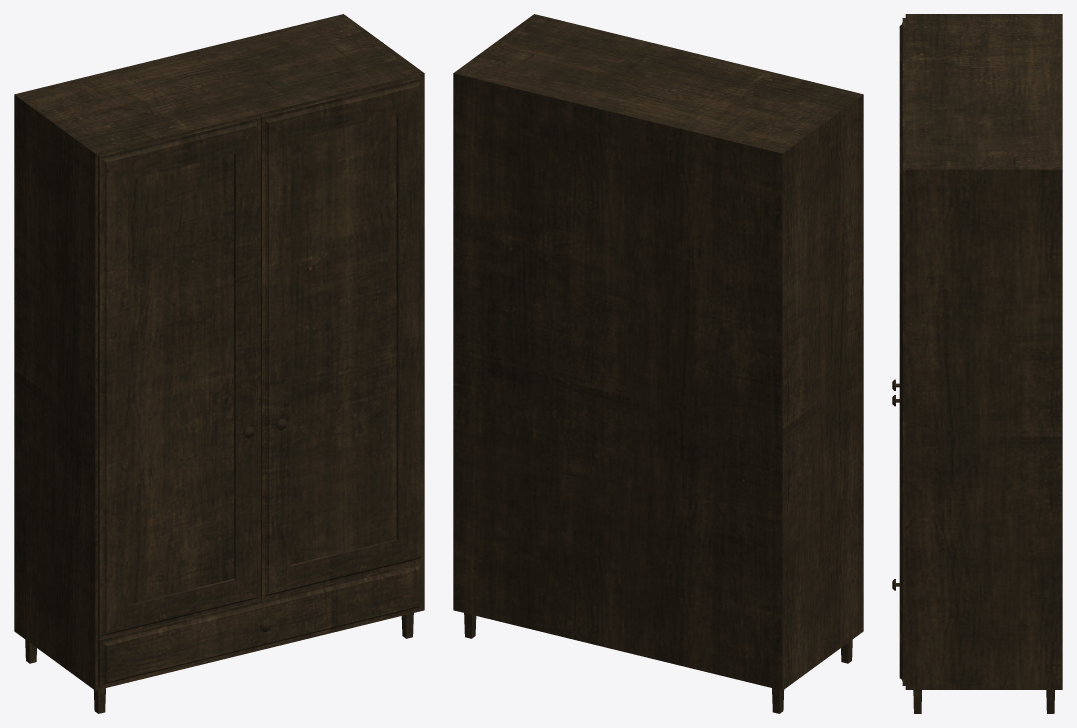
The model's file is wardrobe_mp_1_3.obj.
3 views of the same model, side by side, from view 1: azimuth 30°, elevation 25°; view 2: azimuth 150°, elevation 25°; view 3: azimuth 270°, elevation 25° (orthographic). The views are drawn at different scales.
Visible parts, largest first — view 1: wardrobe_mp_1_3_door_1, wardrobe_mp_1_3_door_2, wardrobe_mp_1_3, wardrobe_mp_1_3_drawer; view 2: wardrobe_mp_1_3; view 3: wardrobe_mp_1_3, wardrobe_mp_1_3_door_2, wardrobe_mp_1_3_door_1, wardrobe_mp_1_3_drawer.
Boxes of the visible parts, <box> form: wardrobe_mp_1_3_door_1: <box>98,116,260,639</box>; wardrobe_mp_1_3_door_2: <box>260,77,423,599</box>; wardrobe_mp_1_3: <box>14,14,424,713</box>; wardrobe_mp_1_3_drawer: <box>98,561,423,688</box>; wardrobe_mp_1_3: <box>453,14,863,713</box>; wardrobe_mp_1_3: <box>905,14,1062,713</box>; wardrobe_mp_1_3_door_2: <box>892,95,905,638</box>; wardrobe_mp_1_3_door_1: <box>892,18,905,390</box>; wardrobe_mp_1_3_drawer: <box>892,579,905,685</box>.
Size of the model in its own units: 1.22 by 2 by 0.5645.
